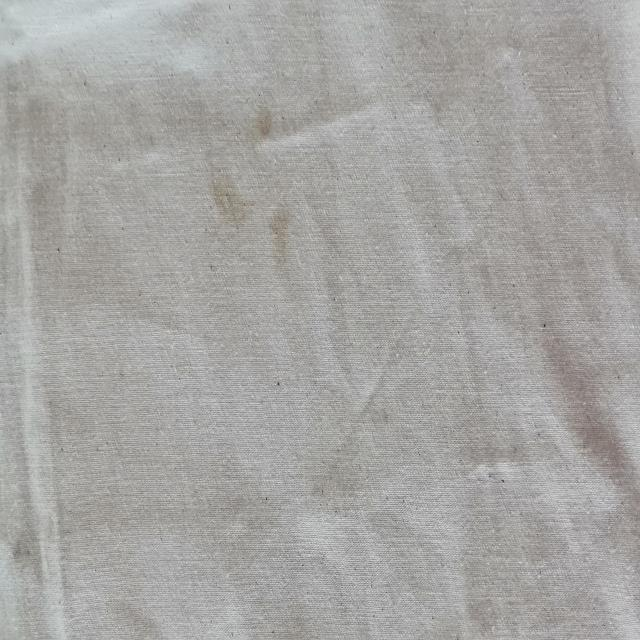taaaches: (205, 147, 247, 232), (270, 188, 299, 275), (250, 89, 280, 149)
